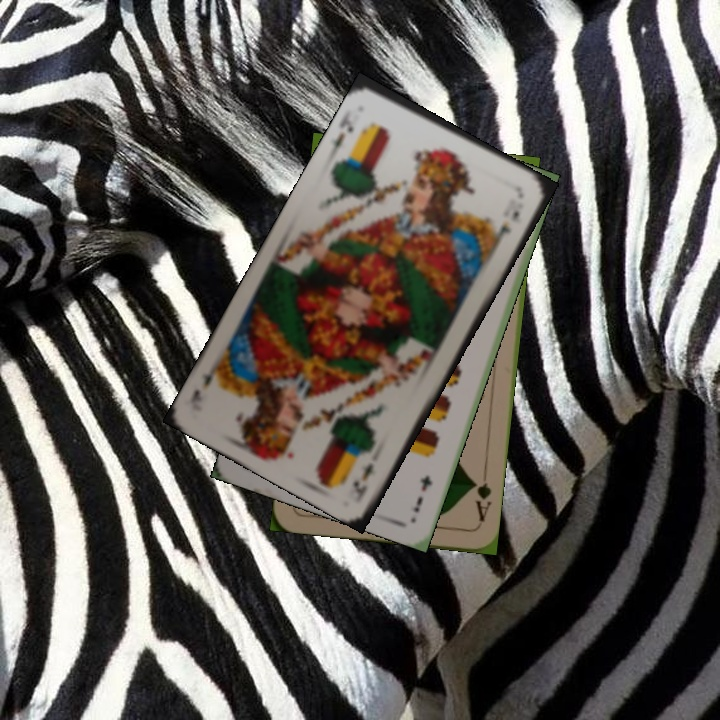E7: (409, 471, 435, 515)
EK: (328, 107, 356, 156), (349, 458, 376, 500)
GA: (468, 477, 494, 524)
